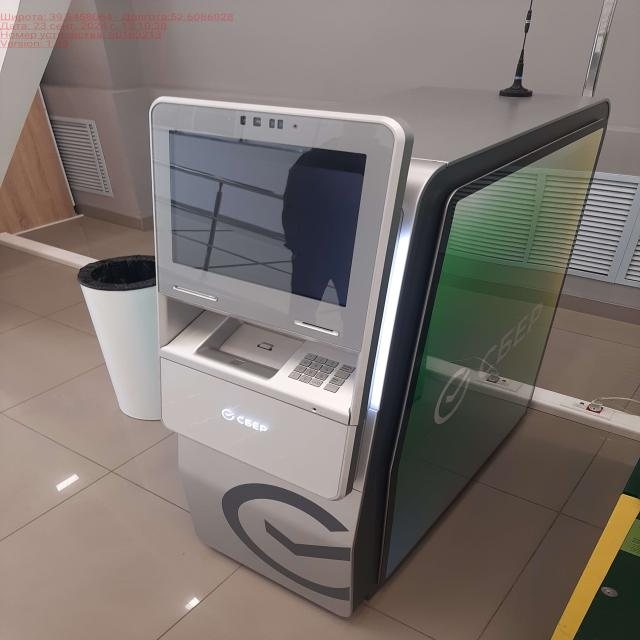bank: (148, 84, 613, 616)
